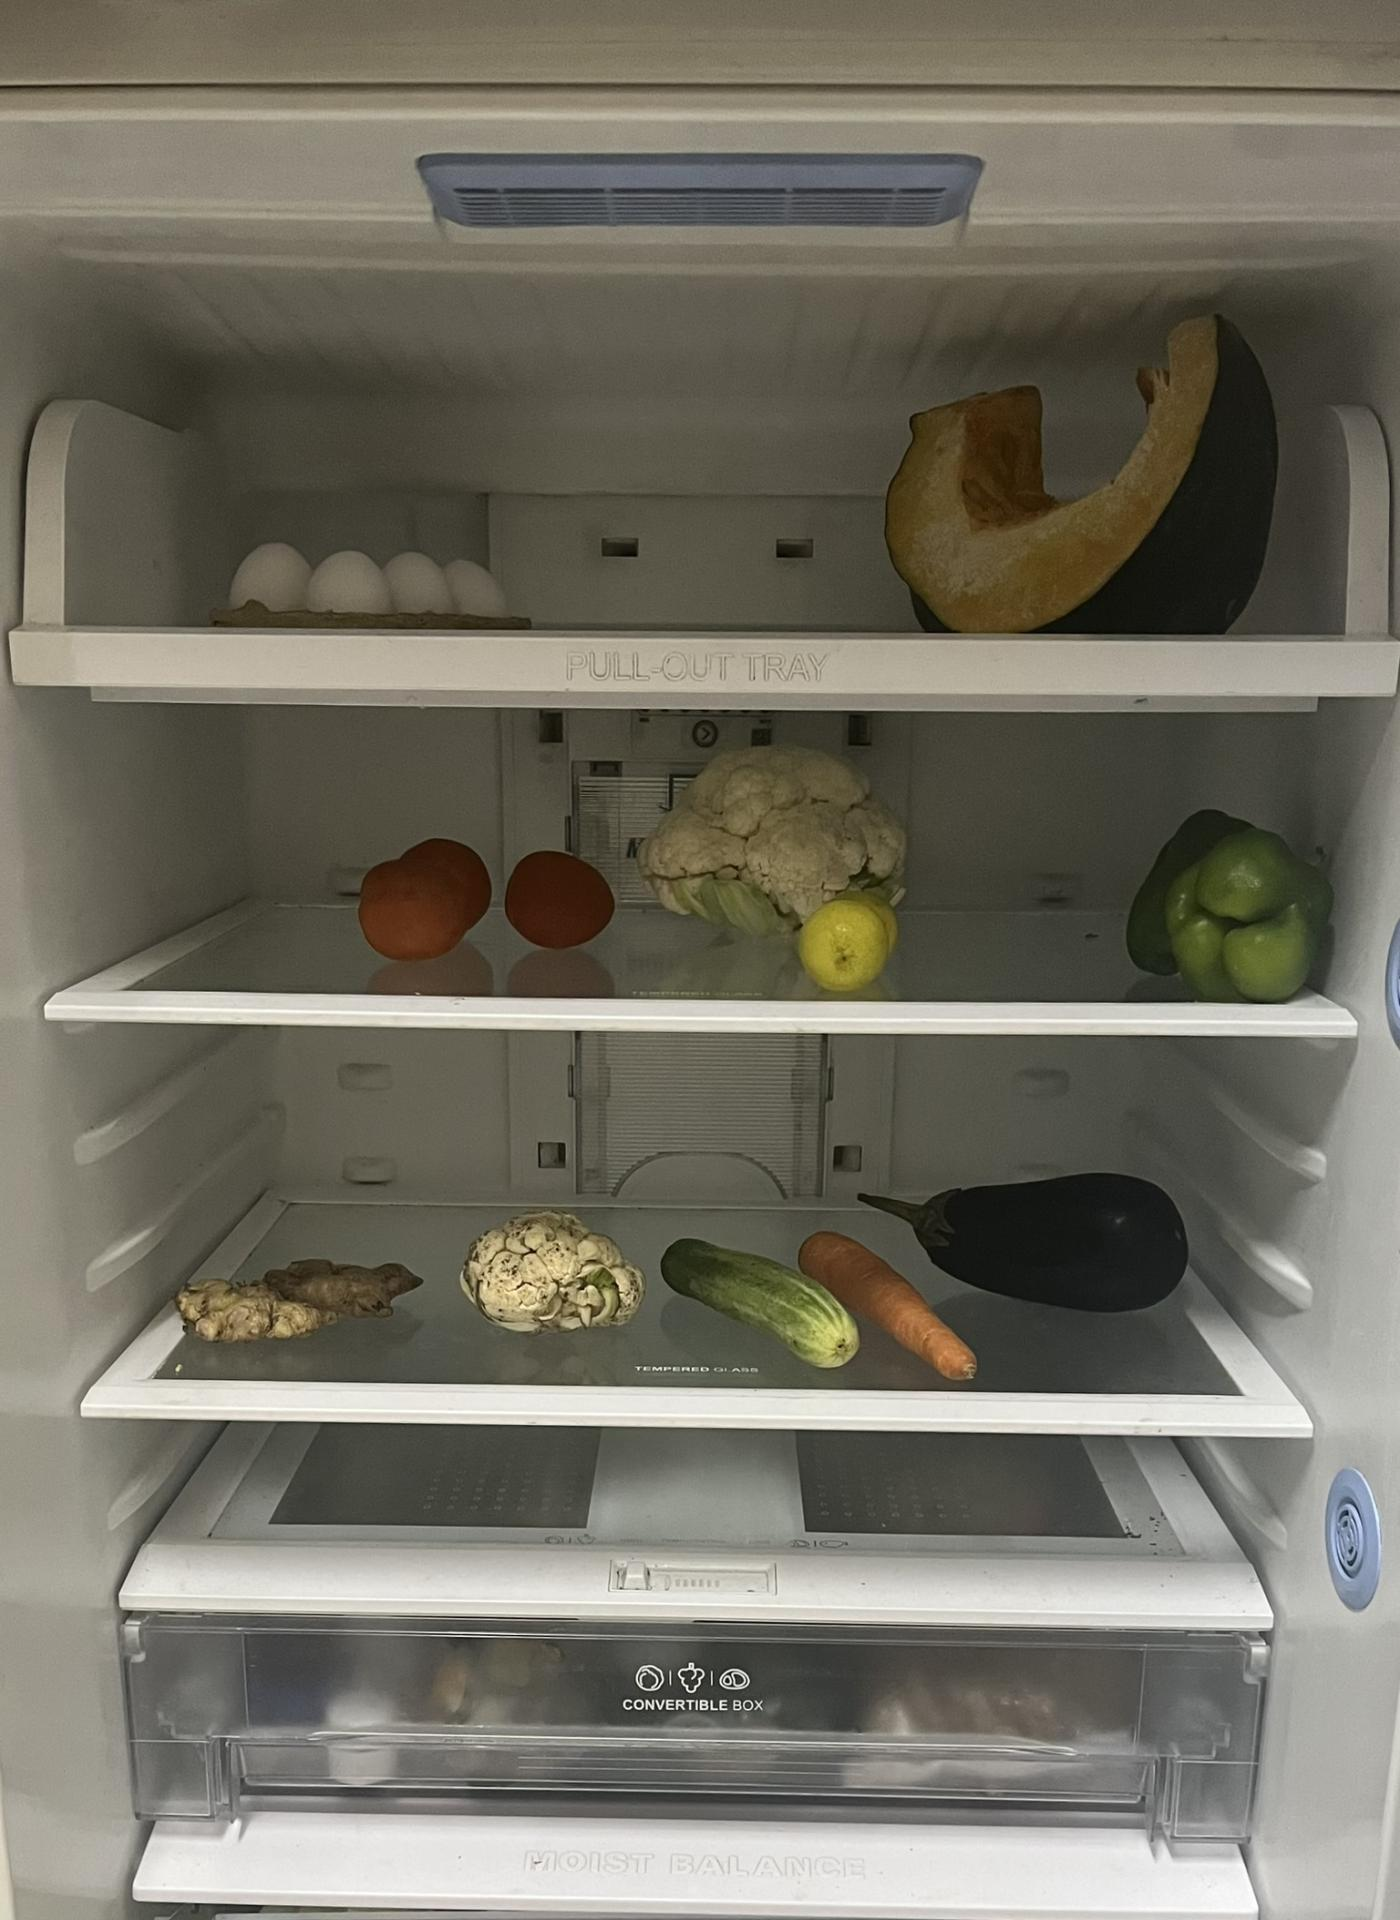brinjal: (871, 1175, 1191, 1307)
capsicum: (1133, 809, 1337, 999)
carrots: (796, 1212, 975, 1379)
cauliflower: (650, 744, 906, 917), (462, 1207, 638, 1331)
cucumber: (668, 1237, 862, 1373)
egg: (234, 535, 499, 613)
ginger: (171, 1243, 420, 1349)
lemon: (799, 890, 896, 994)
pumpkin: (878, 312, 1284, 637)
tomato: (356, 829, 495, 961), (508, 835, 620, 944)
